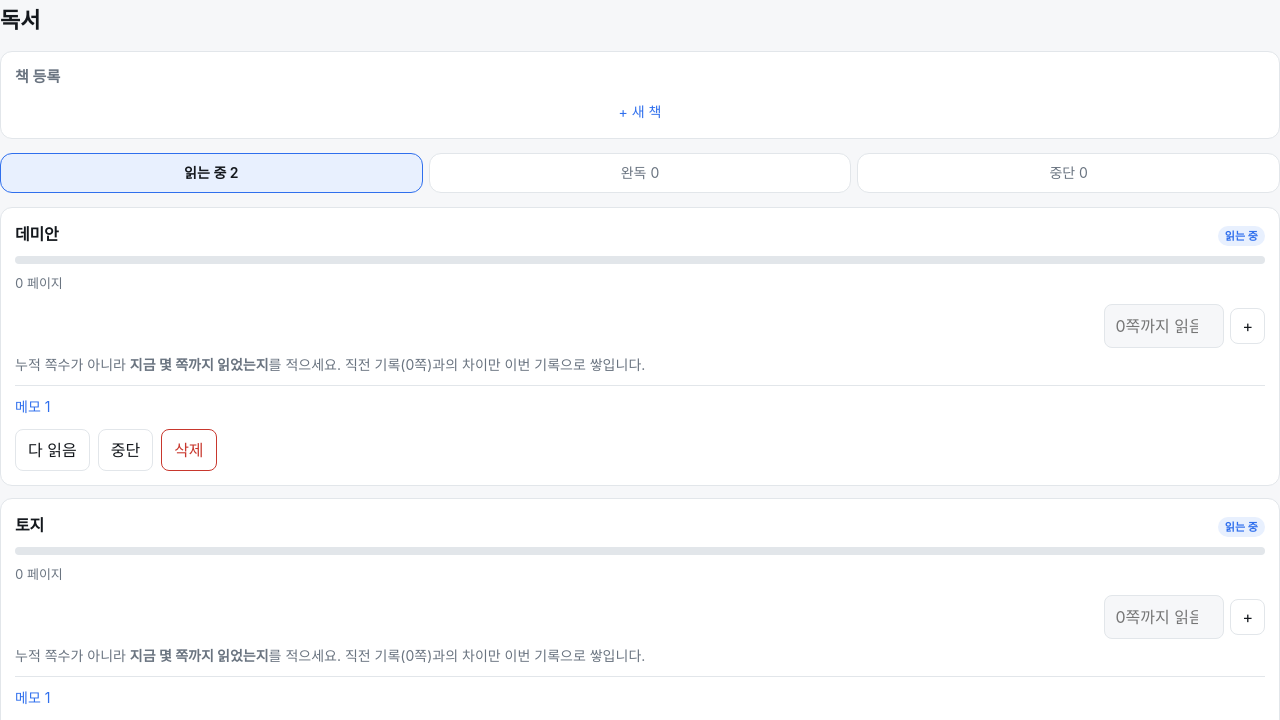
Test: 책에 붙은 메모 › 펼치면 그 책에 붙은 메모만 모인다
The width and height of the screenshot is (1280, 720).
Click the button "메모 1" below "토지" at coordinates (33, 697), box left=15, top=684, right=50, bottom=710
(page scrolled)
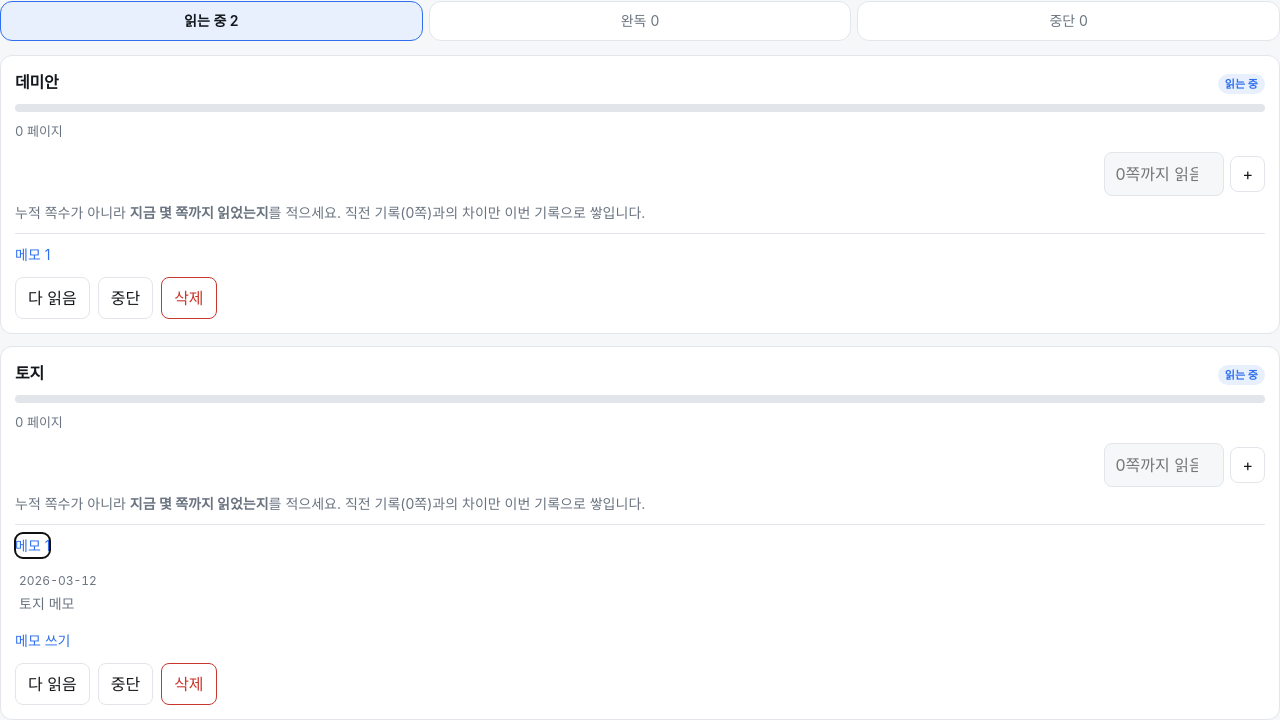
Expected: the text "토지 메모" is shown, left=19, top=592, right=74, bottom=614
